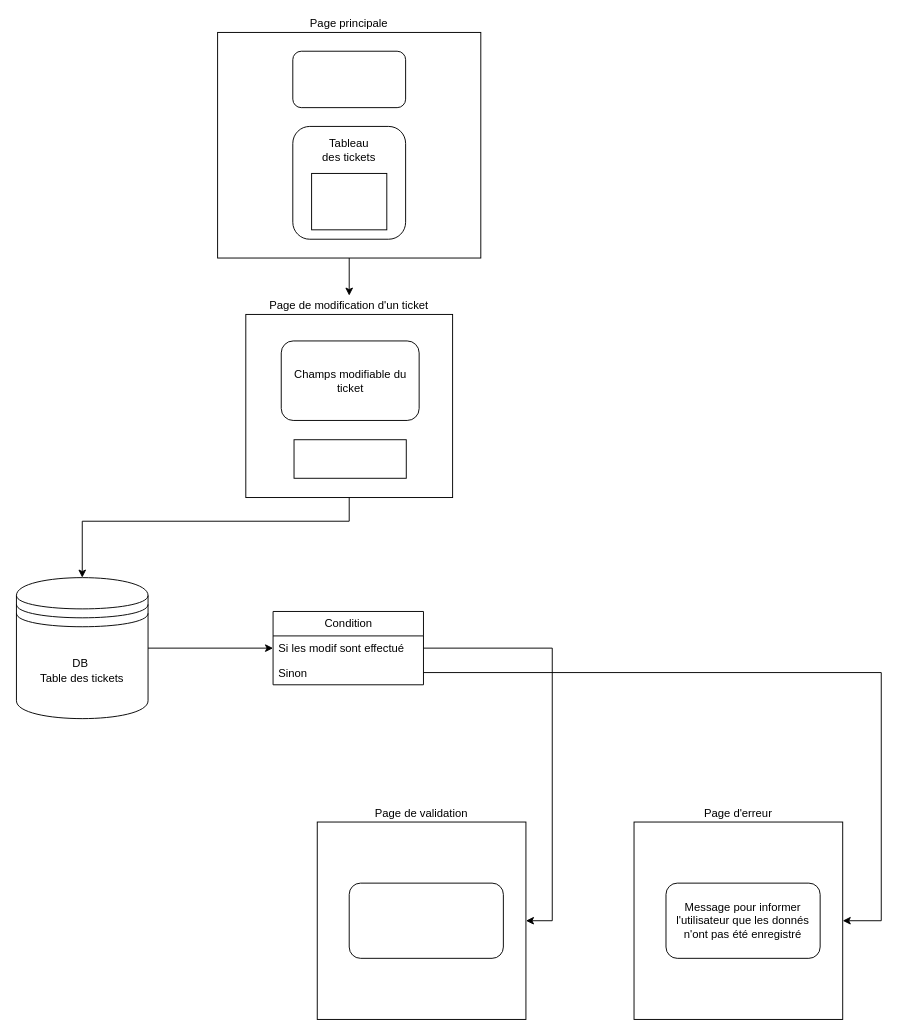
Image size: 905x1036. Some labels were removed from this diagram. Here are the shapes that lost their labels. From the top down, the centre of each, then its label:
pixel 349 79: Dashboard des suivis
pixel 349 201: Option de modification d'un ticket
pixel 349 458: Bouton de validation
pixel 425 920: Message pour informer l'utilisateur que les donnés ont bien été enregistré
